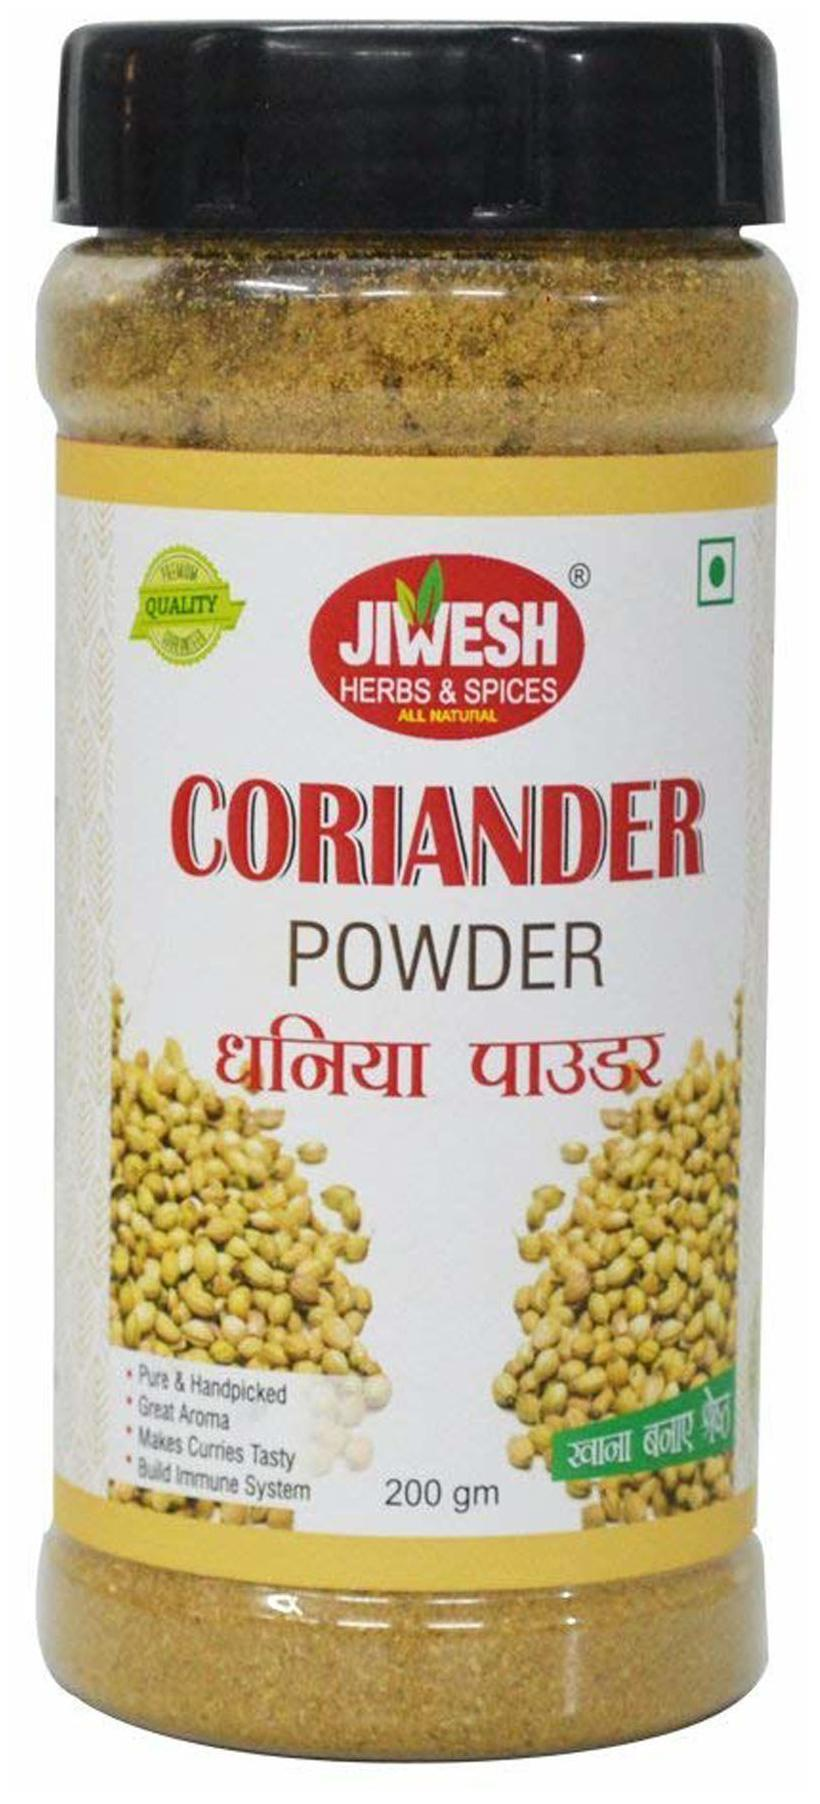JAR: (30, 12, 788, 1774)
